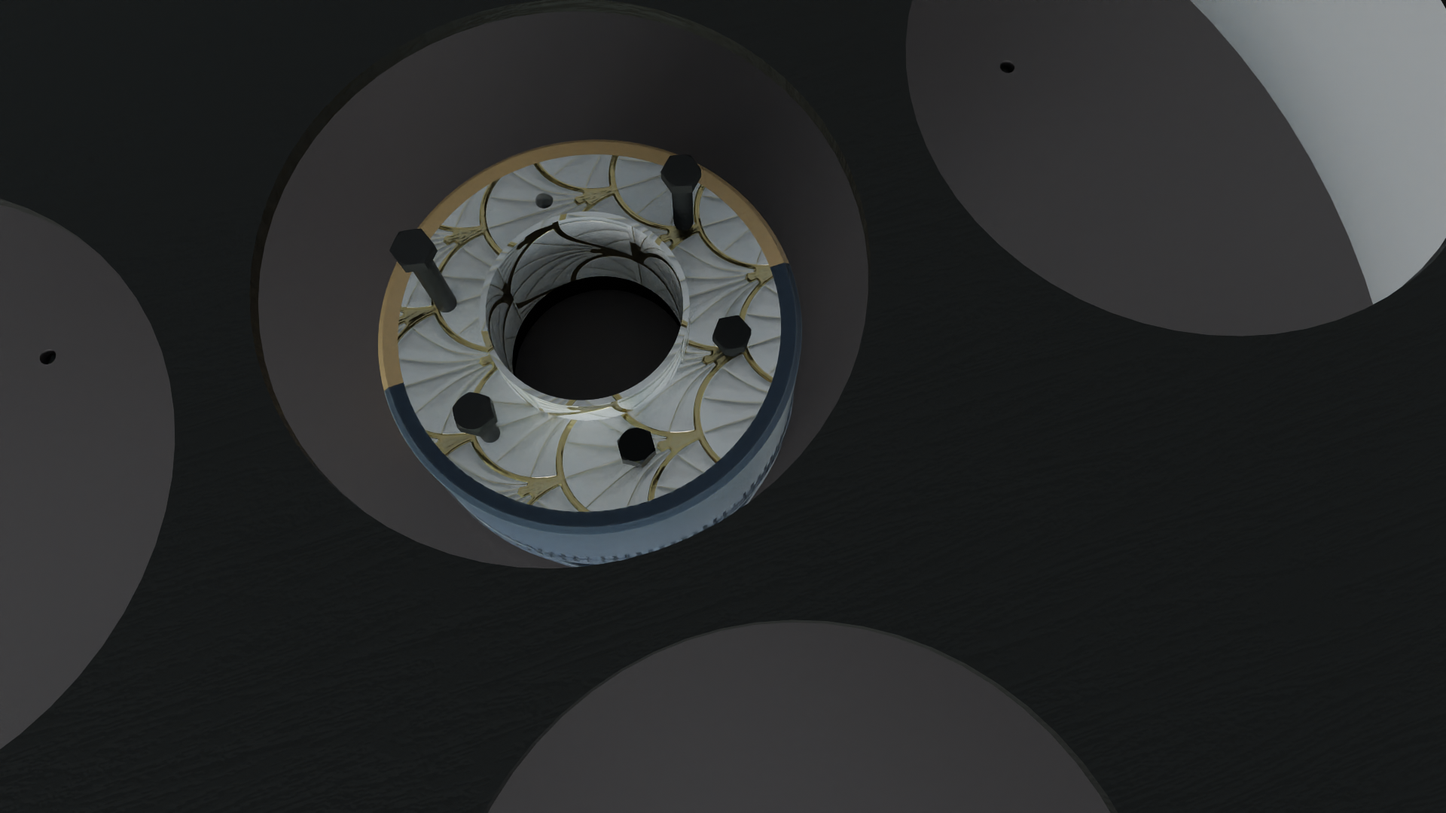bolt: (453, 392, 495, 433), (389, 229, 434, 266), (617, 427, 655, 464), (712, 315, 751, 351), (660, 154, 701, 187)
